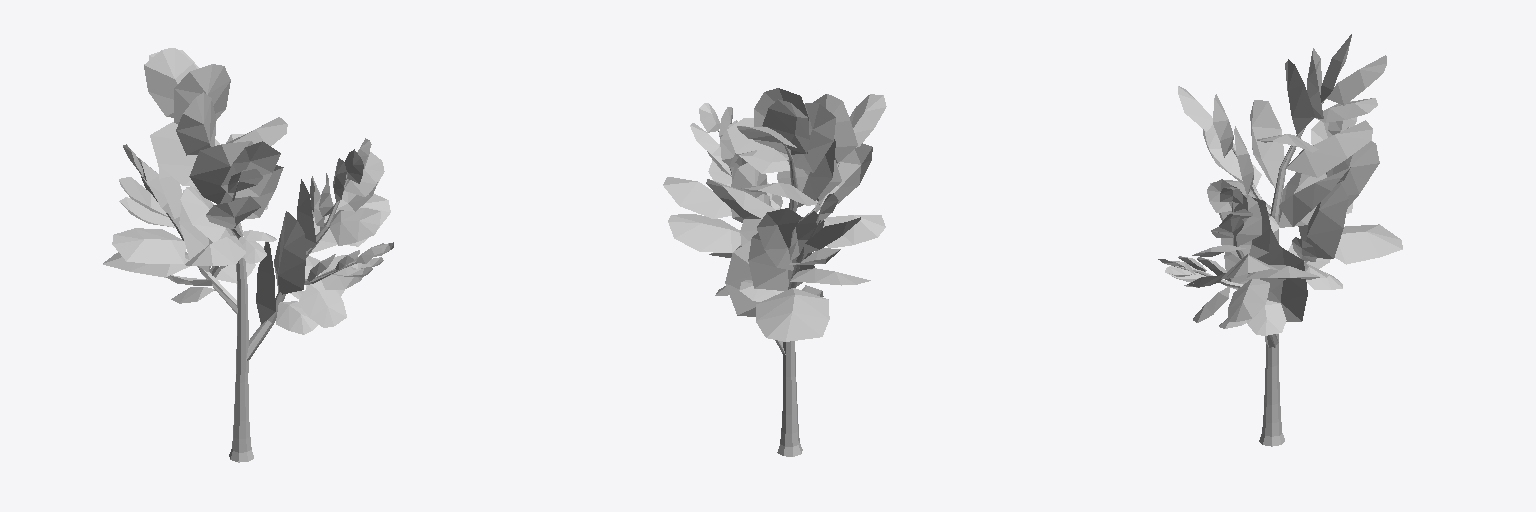
The model's file is laubbaum.obj.
3 renders of one model, left to right at view 1: azimuth 30°, elevation 25°; view 2: azimuth 150°, elevation 25°; view 3: azimuth 270°, elevation 25°, orthographic.
Visible parts, largest first — view 1: Plane.005, Circle.001, Circle.002; view 2: Plane.005, Circle.001; view 3: Plane.005, Circle.001.
Part boxes in pixels (left/top/right/bottom): Plane.005: left=103, top=48, right=393, bottom=334; Circle.001: left=229, top=179, right=347, bottom=462; Circle.002: left=140, top=174, right=240, bottom=313; Plane.005: left=663, top=88, right=886, bottom=341; Circle.001: left=718, top=130, right=802, bottom=456; Plane.005: left=1158, top=34, right=1402, bottom=335; Circle.001: left=1232, top=99, right=1325, bottom=446.
Size of the model in its own units: 5 by 7.96 by 4.58.